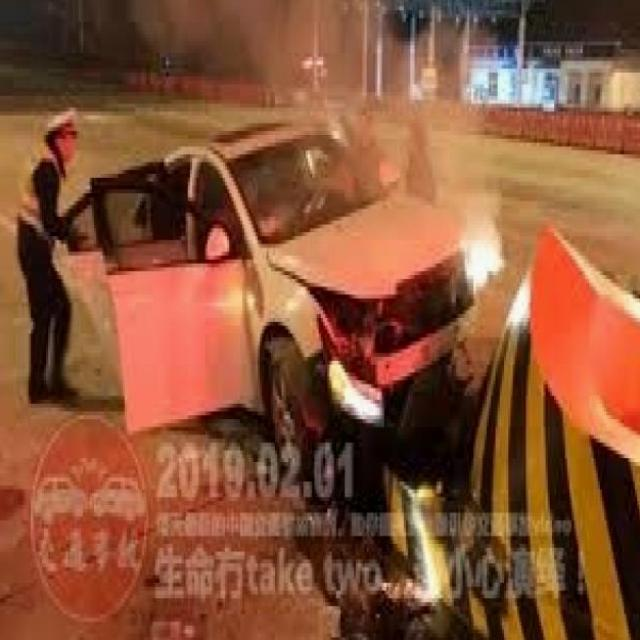accident: (178, 87, 514, 486)
